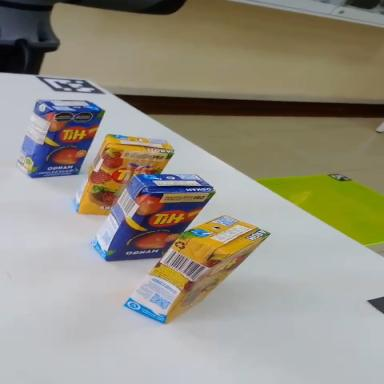HIT-MANGO: (81, 144, 217, 286), (8, 83, 106, 194)
HIT-MORA: (116, 190, 271, 342), (69, 116, 176, 238)
cara_F: (99, 161, 216, 288), (71, 123, 173, 239), (163, 224, 270, 330), (30, 94, 105, 194)
